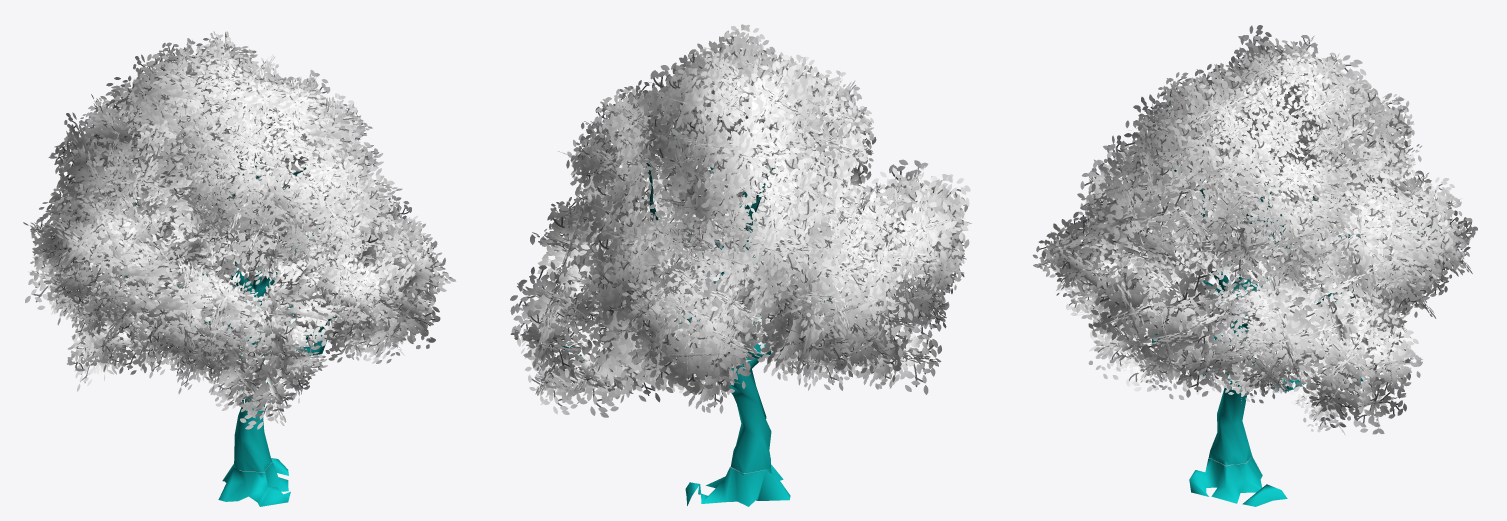
The model's file is HuralyaOak1Separated.fbx.
The picture shows the model from 3 angles, left to right: view 1: azimuth 30°, elevation 25°; view 2: azimuth 150°, elevation 25°; view 3: azimuth 270°, elevation 25°; orthographic projection. The views are drawn at different scales.
Parts seen in each view (by area): view 1: BarkAndLeaves, Stomp; view 2: BarkAndLeaves, Stomp; view 3: BarkAndLeaves, Stomp.
Boxes of the visible parts, bbox=[...] form: BarkAndLeaves: bbox=[23, 31, 456, 472]; Stomp: bbox=[218, 458, 290, 506]; BarkAndLeaves: bbox=[510, 24, 971, 473]; Stomp: bbox=[685, 464, 790, 506]; BarkAndLeaves: bbox=[1032, 25, 1477, 465]; Stomp: bbox=[1189, 455, 1287, 506].
Size of the model in its own units: 832 by 892 by 856.
